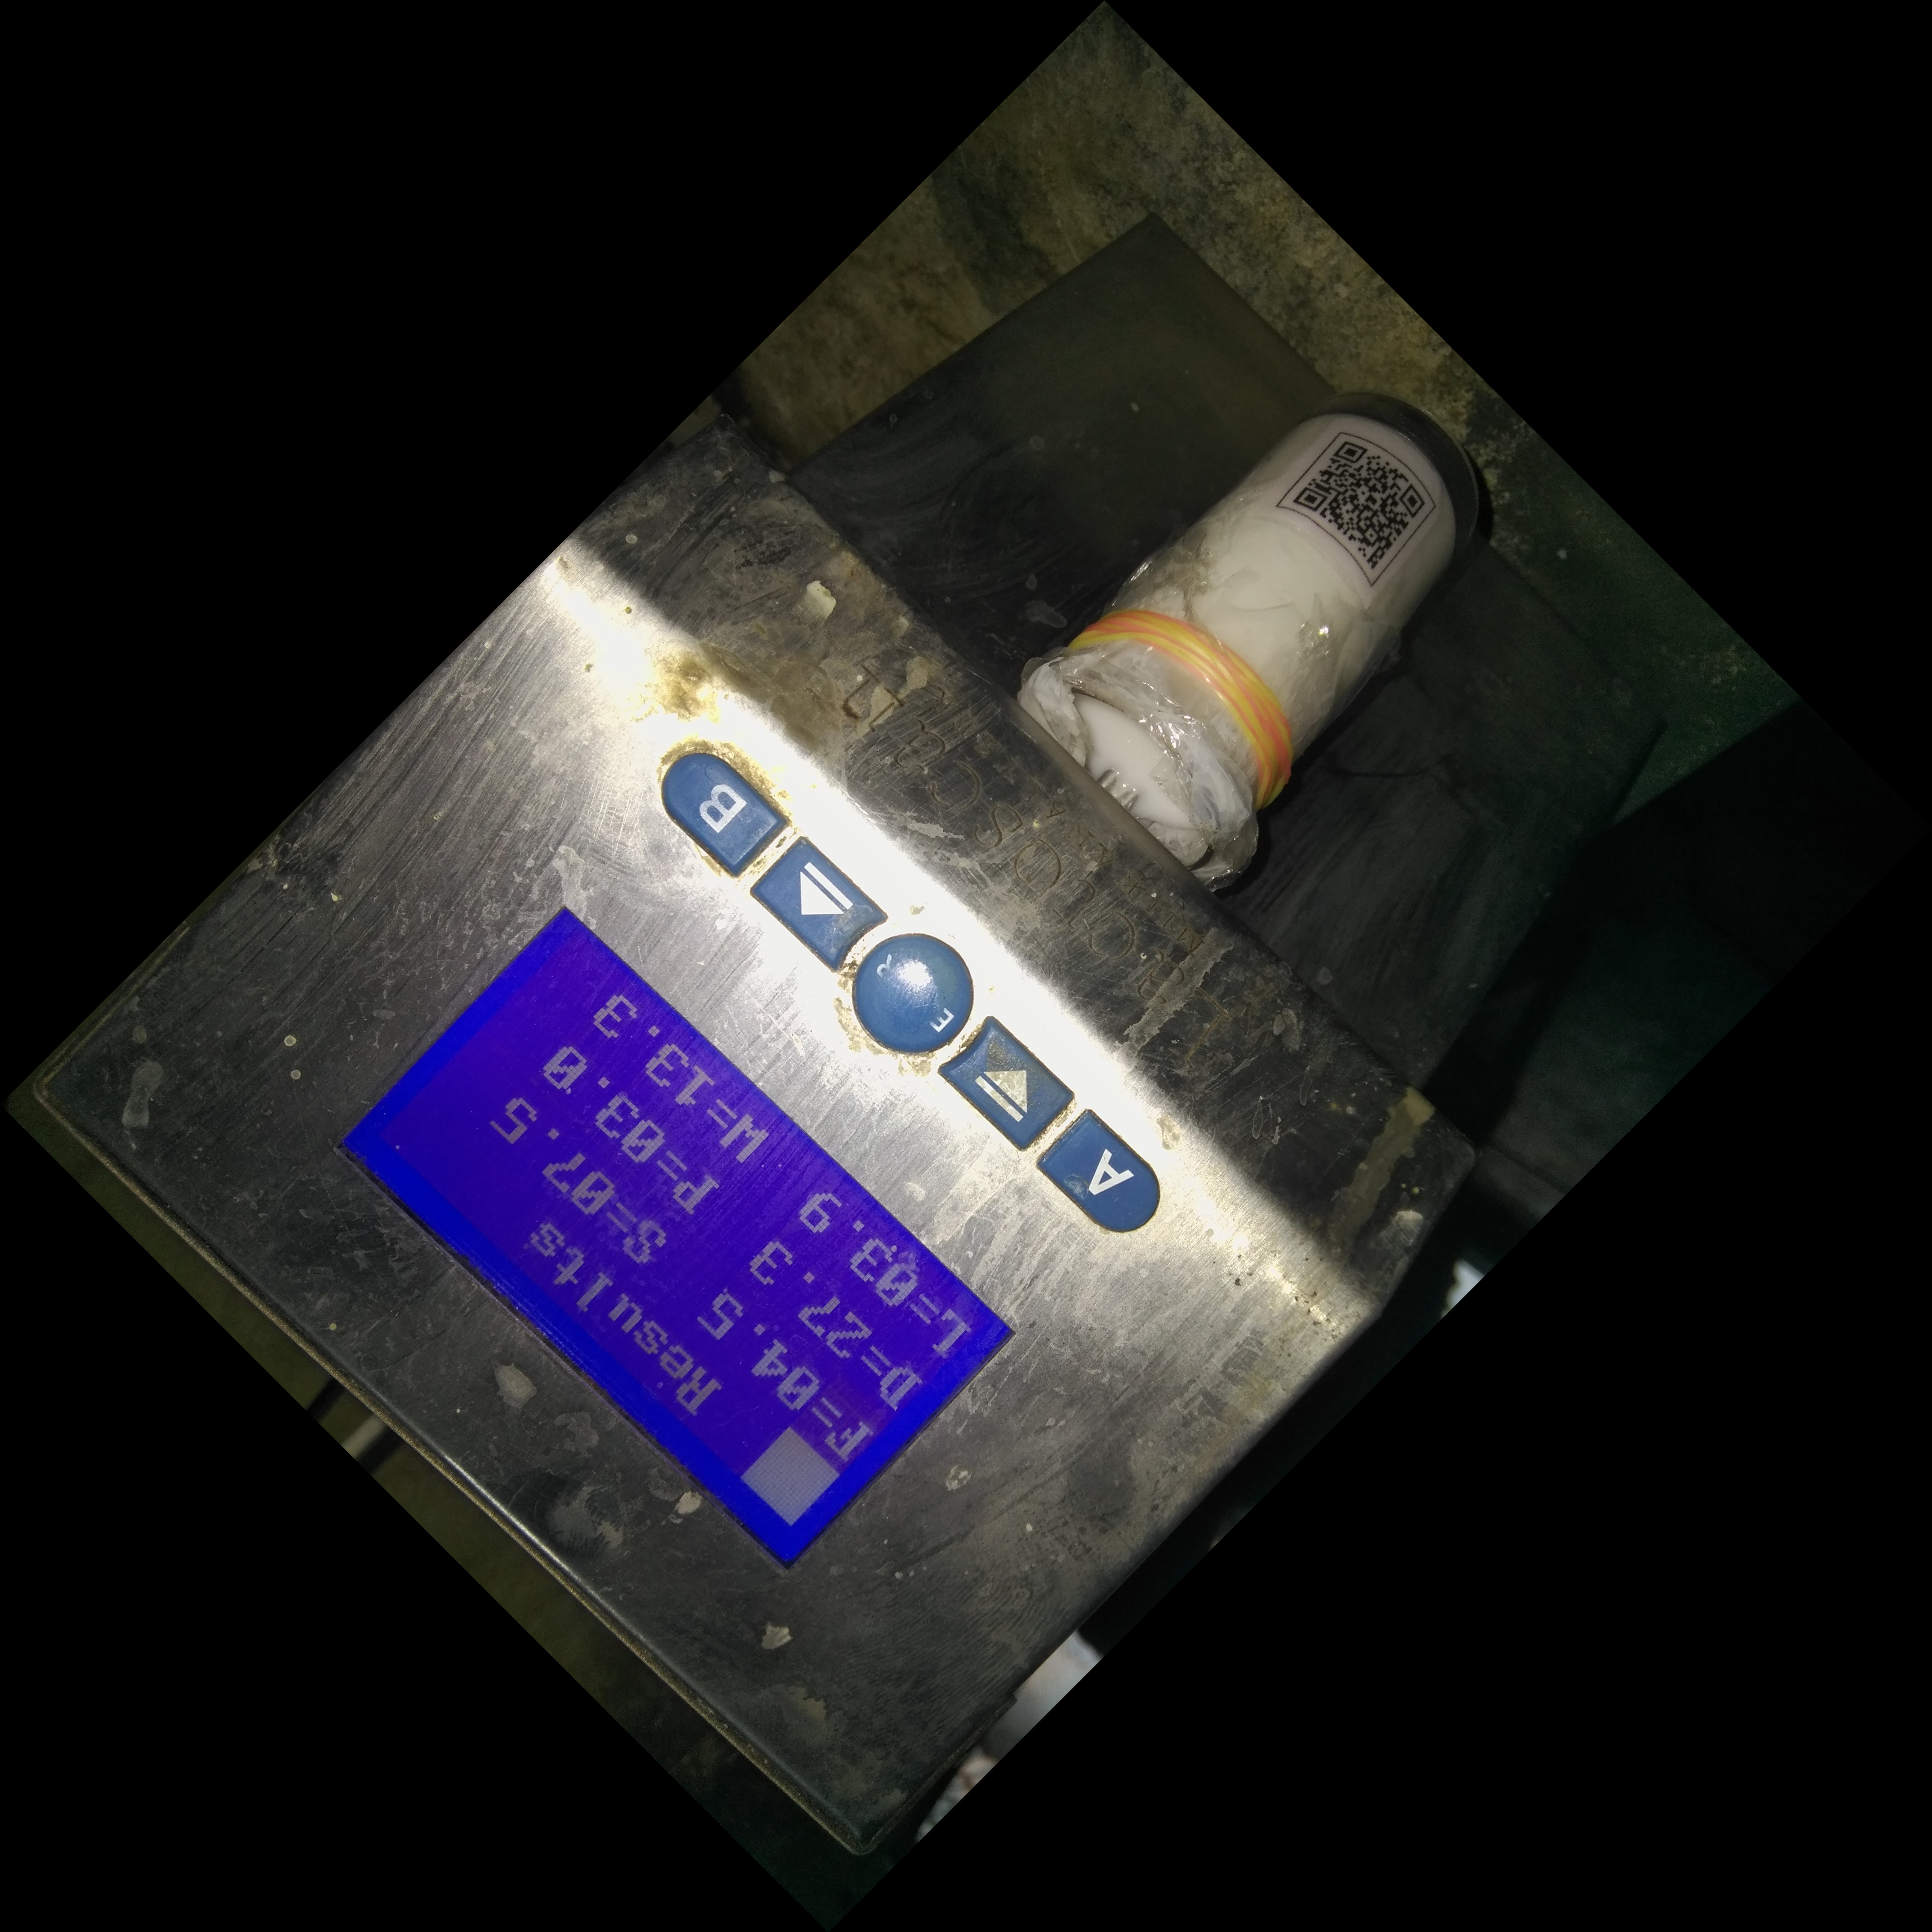lcd: (338, 890, 1026, 1601)
qr: (1261, 433, 1437, 607)
